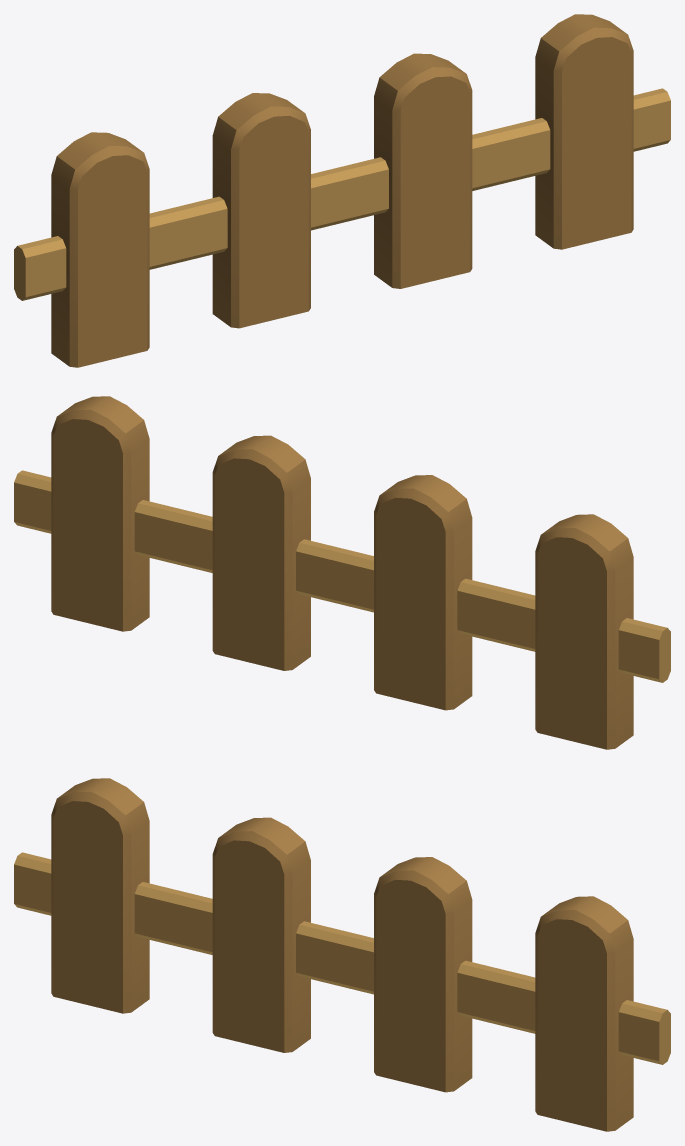
File: Fence_Middle.gltf
The picture shows the model from 3 angles, top to bottom: view 1: azimuth 30°, elevation 25°; view 2: azimuth 150°, elevation 25°; view 3: azimuth 330°, elevation 25°; orthographic projection.
Parts seen in each view (by area): view 1: Fence_Middle; view 2: Fence_Middle; view 3: Fence_Middle.
Part boxes in pixels (x1,y1,x2,y2): Fence_Middle: [14, 14, 670, 367]; Fence_Middle: [14, 396, 670, 749]; Fence_Middle: [14, 778, 670, 1131].
Size of the model in its own units: 4 by 1.25 by 0.2644.
